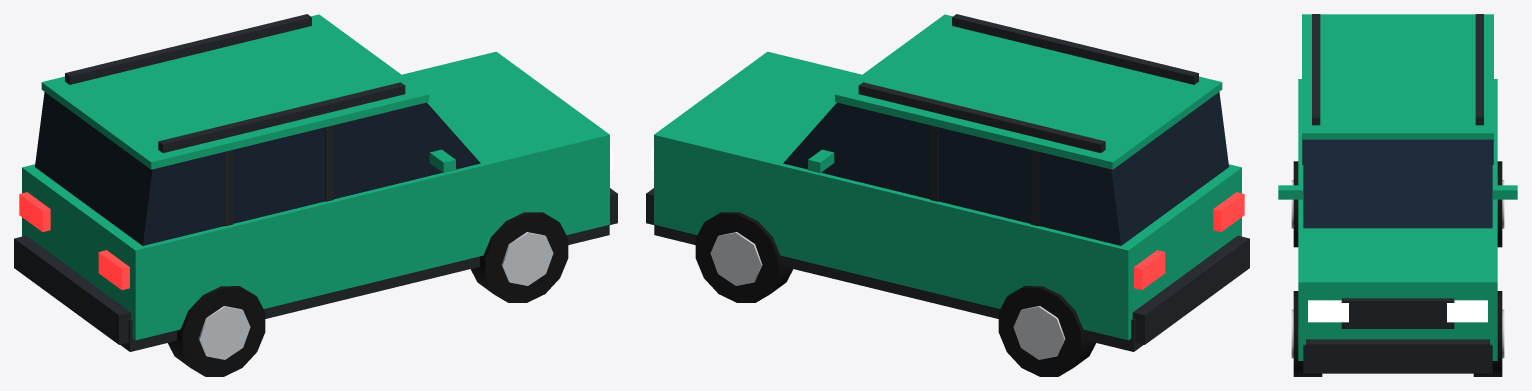
The model's file is suv.glb.
The picture shows the model from 3 angles, left to right: view 1: azimuth 30°, elevation 25°; view 2: azimuth 150°, elevation 25°; view 3: azimuth 270°, elevation 25°; orthographic projection. The views are drawn at different scales.
Visible parts, largest first — view 1: Body, Cabin, Roof, Wheel (×2), RoofRail (×2), Bumper, Skirt, Taillight (×2), Pillar (×2); view 2: Body, Cabin, Roof, Wheel (×2), RoofRail (×2), Bumper, Skirt, Taillight (×2), Pillar (×2); view 3: Roof, Body, Cabin, Bumper, Grille, Wheel (×4), RoofRail (×2), Headlight (×2), Skirt, SUV.
Part boxes in pixels (box(x1,y1,x2,y2)): Body: box(22, 51, 609, 340); Cabin: box(35, 92, 480, 245); Roof: box(41, 14, 428, 169); Wheel (×2): box(168, 212, 568, 376); RoofRail (×2): box(65, 14, 405, 152); Bumper: box(14, 235, 131, 344); Skirt: box(120, 225, 609, 351); Taillight (×2): box(19, 192, 129, 289); Pillar (×2): box(224, 125, 333, 226); Body: box(654, 51, 1241, 340); Cabin: box(783, 92, 1228, 245); Roof: box(835, 14, 1222, 169); Wheel (×2): box(695, 212, 1095, 376); RoofRail (×2): box(858, 14, 1198, 152); Bumper: box(1132, 235, 1249, 344); Skirt: box(654, 225, 1143, 351); Taillight (×2): box(1134, 192, 1244, 289); Pillar (×2): box(930, 125, 1039, 226); Roof: box(1302, 14, 1493, 139); Body: box(1298, 79, 1497, 360); Cabin: box(1303, 139, 1492, 228); Bumper: box(1306, 339, 1489, 370); Grille: box(1341, 298, 1454, 328); Wheel (×4): box(1291, 161, 1504, 376); RoofRail (×2): box(1312, 14, 1483, 125); Headlight (×2): box(1308, 300, 1487, 322); Skirt: box(1303, 344, 1492, 373); SUV: box(1278, 185, 1517, 199).
Size of the model in its own units: 4.94 by 2.24 by 2.34.
